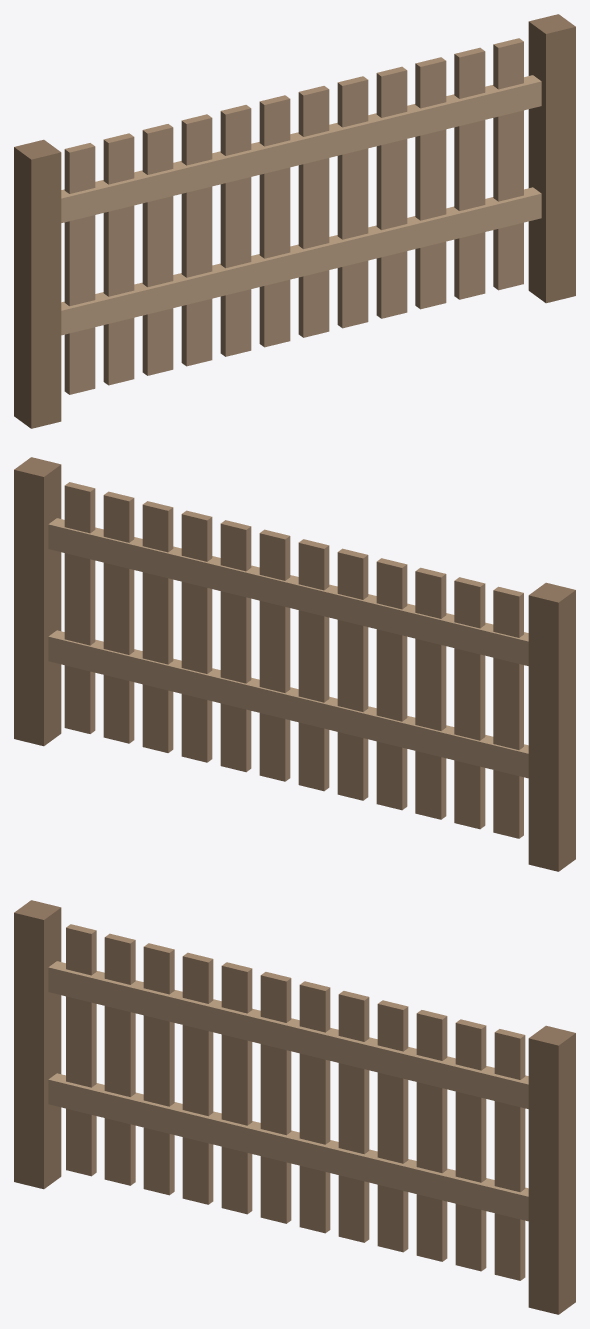
The model's file is yard_fence_v1.glb.
The picture shows the model from 3 angles, top to bottom: view 1: azimuth 30°, elevation 25°; view 2: azimuth 150°, elevation 25°; view 3: azimuth 330°, elevation 25°; orthographic projection.
Parts seen in each view (by area): view 1: Rail.0.42, Rail.0.92, Post.-1, Post.1, Picket.4, Picket.6, Picket.8, Picket.2, Picket.3, Picket.5, Picket.7, Picket.0 (+4 smaller); view 2: Rail.0.42, Rail.0.92, Post.-1, Post.1, Picket.5, Picket.1, Picket.3, Picket.4, Picket.7, Picket.2, Picket.6, Picket.9 (+4 smaller); view 3: Rail.0.42, Rail.0.92, Post.1, Post.-1, Picket.3, Picket.5, Picket.7, Picket.4, Picket.6, Picket.8, Picket.9, Picket.11 (+4 smaller).
Part boxes in pixels (bbox=[...]): Rail.0.42: bbox=[61, 187, 541, 335]; Rail.0.92: bbox=[61, 75, 541, 222]; Post.-1: bbox=[14, 139, 61, 428]; Post.1: bbox=[528, 14, 575, 303]; Picket.4: bbox=[220, 105, 251, 356]; Picket.6: bbox=[298, 86, 329, 337]; Picket.8: bbox=[376, 66, 407, 318]; Picket.2: bbox=[142, 124, 173, 375]; Picket.3: bbox=[181, 114, 212, 366]; Picket.5: bbox=[259, 95, 290, 347]; Picket.7: bbox=[337, 76, 368, 328]; Picket.0: bbox=[64, 143, 95, 394]; Rail.0.42: bbox=[48, 630, 528, 778]; Rail.0.92: bbox=[48, 518, 528, 665]; Post.-1: bbox=[528, 582, 575, 871]; Post.1: bbox=[14, 457, 61, 746]; Picket.5: bbox=[298, 539, 329, 791]; Picket.1: bbox=[454, 577, 485, 829]; Picket.3: bbox=[376, 558, 407, 810]; Picket.4: bbox=[337, 548, 368, 800]; Picket.7: bbox=[220, 520, 251, 772]; Picket.2: bbox=[415, 567, 446, 819]; Picket.6: bbox=[259, 529, 290, 781]; Picket.9: bbox=[142, 501, 173, 752]; Rail.0.42: bbox=[48, 1073, 528, 1221]; Rail.0.92: bbox=[48, 961, 528, 1108]; Post.1: bbox=[528, 1025, 575, 1314]; Post.-1: bbox=[14, 900, 61, 1189]; Picket.3: bbox=[182, 952, 213, 1204]; Picket.5: bbox=[260, 972, 291, 1223]; Picket.7: bbox=[338, 991, 369, 1242]; Picket.4: bbox=[221, 962, 252, 1214]; Picket.6: bbox=[299, 981, 330, 1233]; Picket.8: bbox=[377, 1000, 408, 1252]; Picket.9: bbox=[416, 1010, 447, 1261]; Picket.11: bbox=[494, 1029, 525, 1280].
Size of the model in its own units: 2.54 by 1.2 by 0.14.
